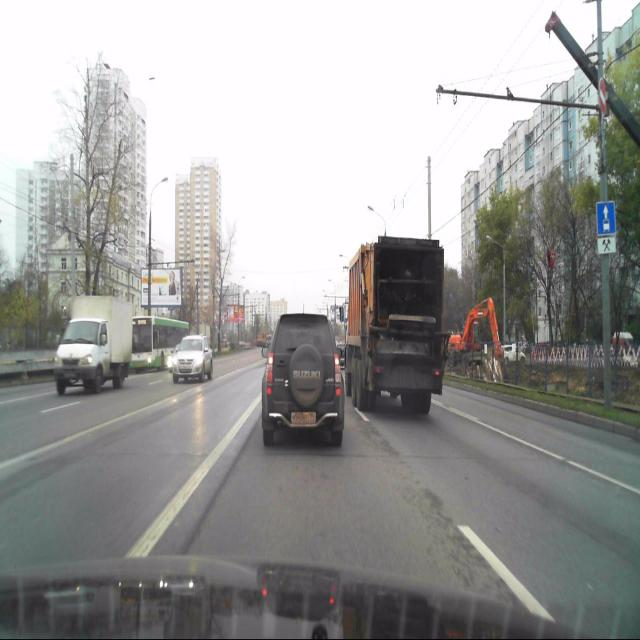road sign: (596, 200, 616, 234), (597, 237, 617, 254)
